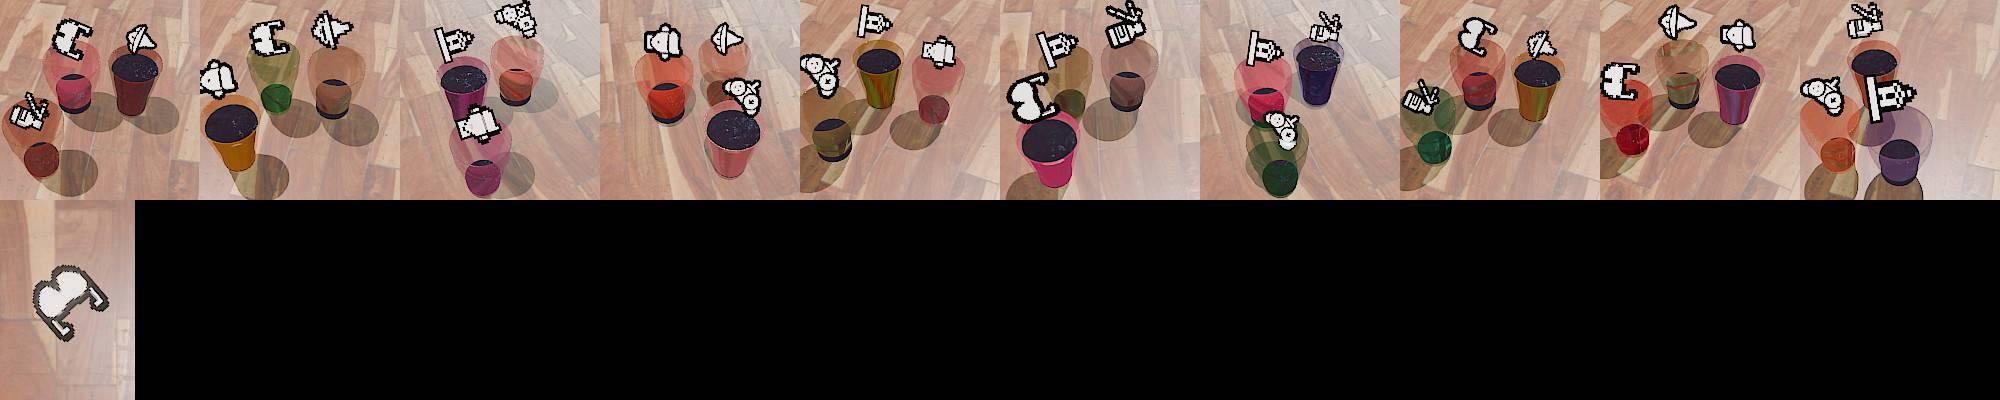icon: (31, 263, 113, 344), (1864, 74, 1919, 125), (1006, 72, 1055, 124), (1103, 0, 1147, 48), (454, 103, 505, 144), (799, 53, 843, 98), (51, 17, 94, 60), (720, 76, 764, 118), (1035, 30, 1080, 71), (1799, 75, 1845, 115), (493, 0, 538, 40), (198, 58, 240, 99), (1457, 16, 1498, 58), (1600, 60, 1642, 101), (311, 10, 353, 50), (248, 19, 290, 58), (1262, 108, 1301, 150), (8, 92, 50, 131), (643, 21, 684, 59), (1244, 29, 1283, 67), (1658, 4, 1698, 41), (434, 26, 475, 62), (1403, 77, 1440, 116), (1847, 1, 1885, 38), (1719, 18, 1758, 52), (857, 4, 894, 39), (920, 34, 958, 68), (1309, 9, 1344, 44), (711, 20, 745, 56), (1525, 29, 1559, 60), (125, 24, 157, 54)
